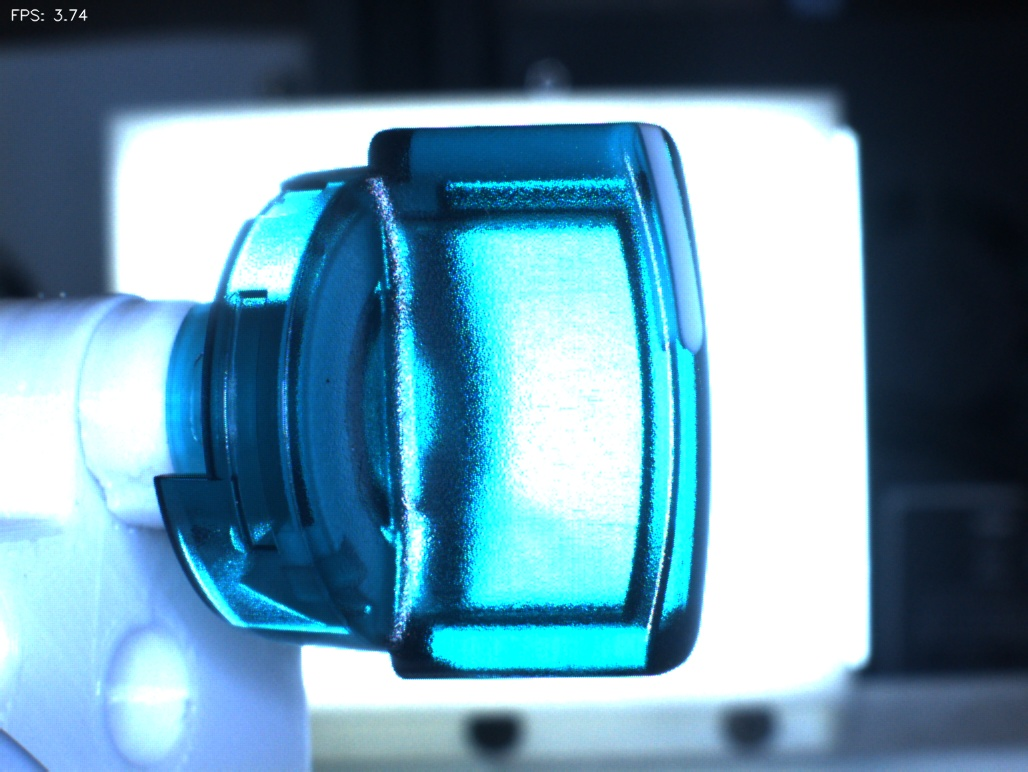PointNoir: (300, 342, 368, 419)
